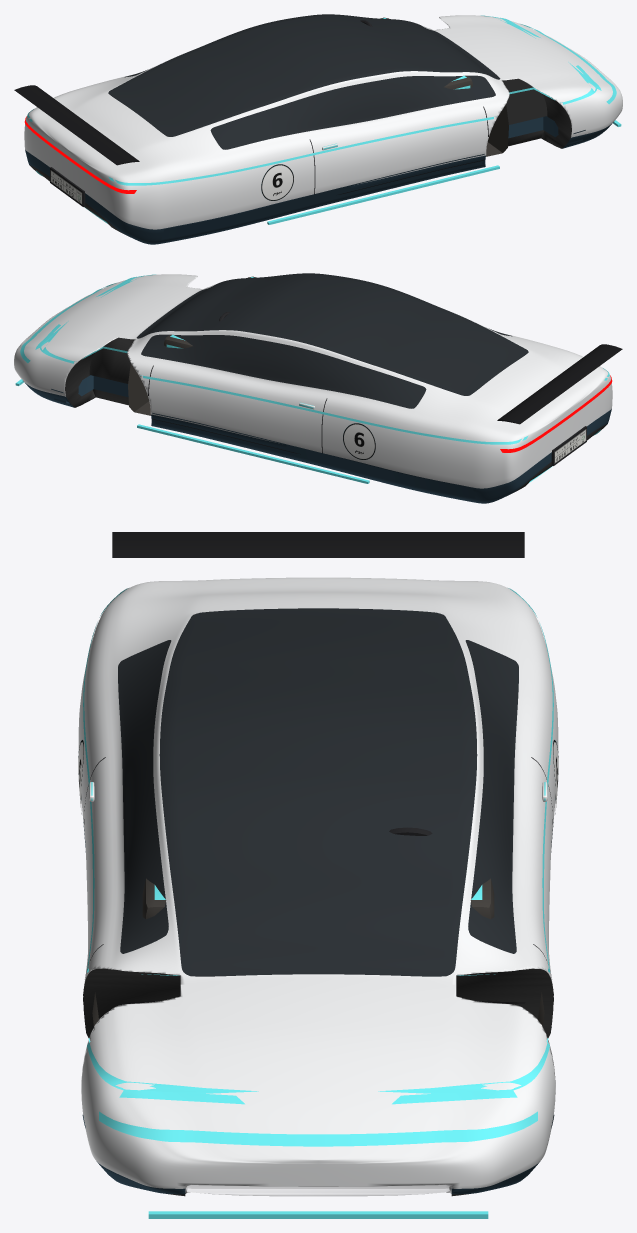
The model's file is SM_NeomGlide_Body.fbx.
3 views of the same model, one above another, from view 1: azimuth 30°, elevation 25°; view 2: azimuth 150°, elevation 25°; view 3: azimuth 270°, elevation 25° (orthographic). The views are drawn at different scales.
Visible parts, largest first — view 1: SM_NeomGlide_Body; view 2: SM_NeomGlide_Body; view 3: SM_NeomGlide_Body.
Boxes of the visible parts, bbox=[...] form: SM_NeomGlide_Body: bbox=[14, 14, 622, 244]; SM_NeomGlide_Body: bbox=[14, 273, 622, 503]; SM_NeomGlide_Body: bbox=[78, 532, 558, 1218].
Bounding box in the file's own units: 497 × 105 × 198.
